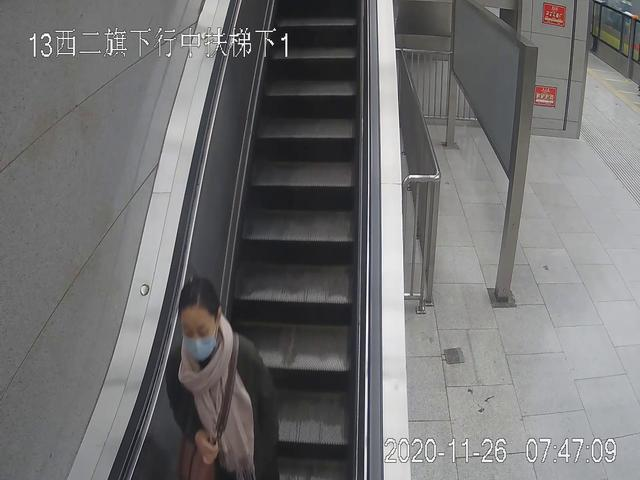person: (166, 278, 280, 480)
